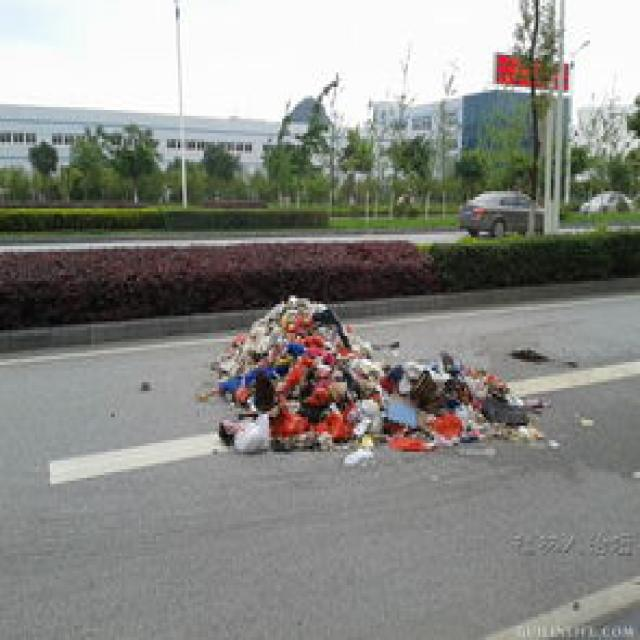garbage: (204, 292, 549, 458)
